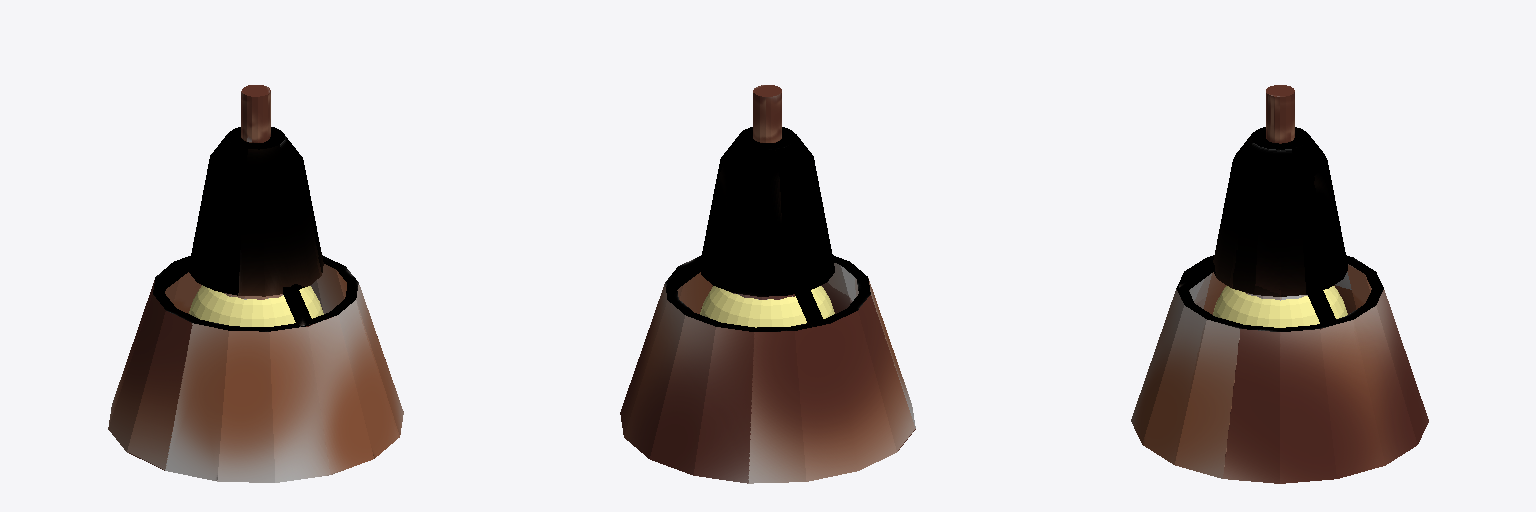
3 renders of one model, left to right at view 1: azimuth 30°, elevation 25°; view 2: azimuth 150°, elevation 25°; view 3: azimuth 270°, elevation 25°, orthographic.
Visible parts, largest first — view 1: 円.005; view 2: 円.005; view 3: 円.005.
Part boxes in pixels (bbox=[...]): 円.005: bbox=[108, 85, 403, 482]; 円.005: bbox=[620, 85, 915, 483]; 円.005: bbox=[1131, 85, 1428, 483].
Bounding box in the file's own units: 2.87 × 3.51 × 2.87.
Materials: 1 (1 with a texture image).